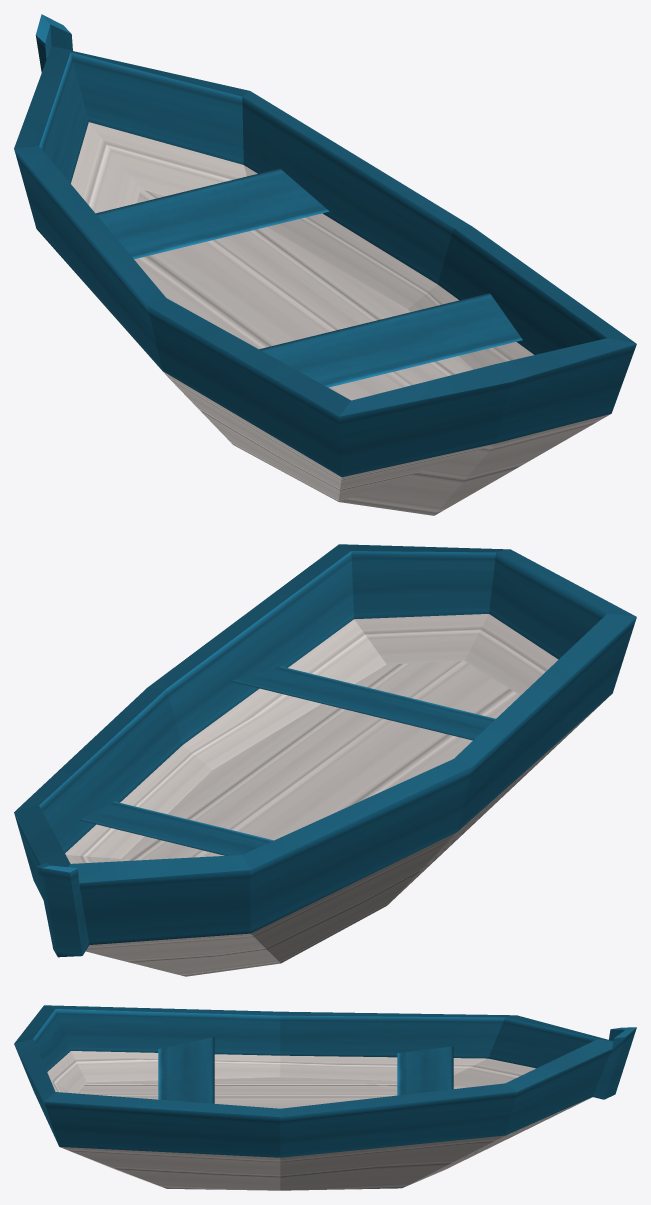
File: co_Boat12.fbx
3 renders of one model, top to bottom at view 1: azimuth 30°, elevation 25°; view 2: azimuth 150°, elevation 25°; view 3: azimuth 270°, elevation 25°, orthographic. The views are drawn at different scales.
Visible parts, largest first — view 1: Boat12; view 2: Boat12; view 3: Boat12.
Part boxes in pixels (x1,y1,x2,y2): Boat12: (14,14,636,515); Boat12: (14,544,636,976); Boat12: (14,1005,636,1190).
Size of the model in its own units: 1000 by 635 by 2499.
